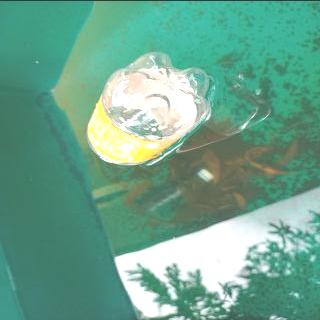bottle: (84, 50, 212, 164)
